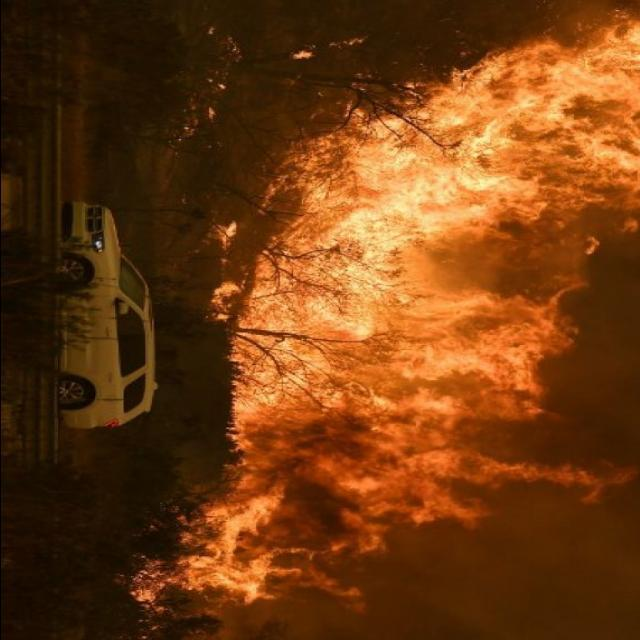Fire: (130, 16, 634, 632)
